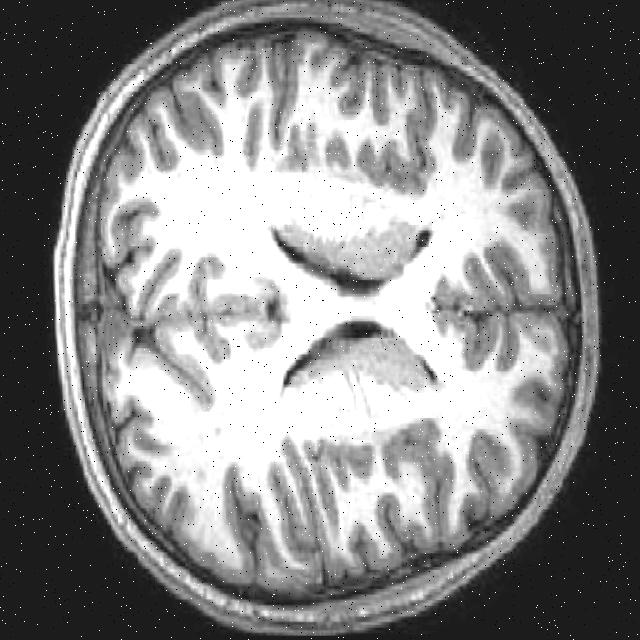NoTumor: (33, 0, 620, 640)
